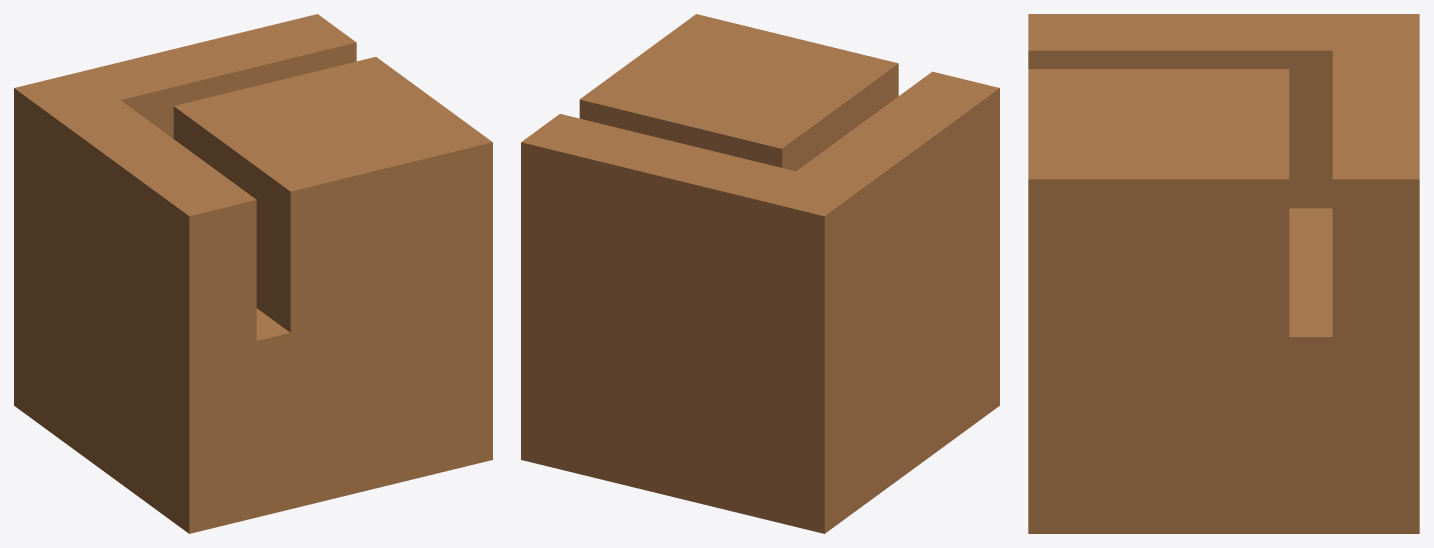
Rendered from Thin_Corner_Wide_Model.fbx.
3 renders of one model, left to right at view 1: azimuth 30°, elevation 25°; view 2: azimuth 150°, elevation 25°; view 3: azimuth 270°, elevation 25°, orthographic. The views are drawn at different scales.
Visible parts, largest first — view 1: Cube; view 2: Cube; view 3: Cube.
Boxes of the visible parts, box(x1,y1,x2,y2) form: Cube: box(14, 14, 492, 533); Cube: box(521, 14, 999, 533); Cube: box(1028, 14, 1419, 533).
Bounding box in the file's own units: 100 × 100 × 100.
